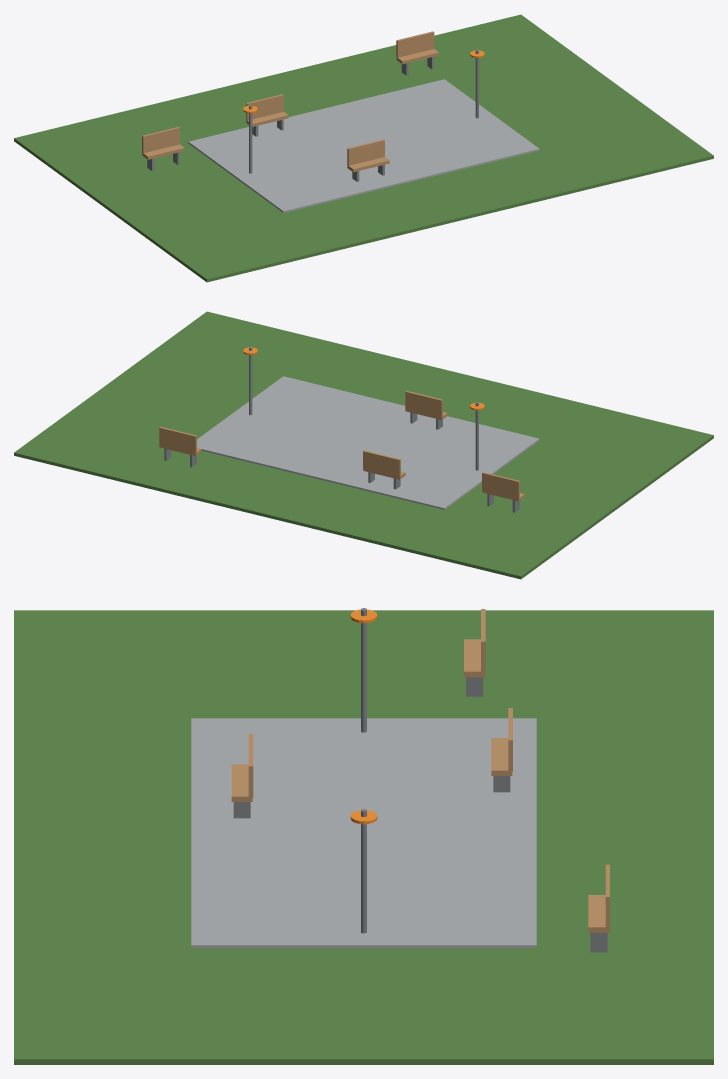
File: Park_006.glb
3 views of the same model, one above another, from view 1: azimuth 30°, elevation 25°; view 2: azimuth 150°, elevation 25°; view 3: azimuth 270°, elevation 25° (orthographic). The views are drawn at different scales.
Parts seen in each view (by area): view 1: Park_006; view 2: Park_006; view 3: Park_006.
Boxes of the visible parts, box(x1,y1,x2,y2) form: Park_006: box(14, 14, 713, 282); Park_006: box(14, 311, 713, 579); Park_006: box(14, 608, 713, 1064).
Bounding box in the file's own units: 27.71 × 3.76 × 18.26.
